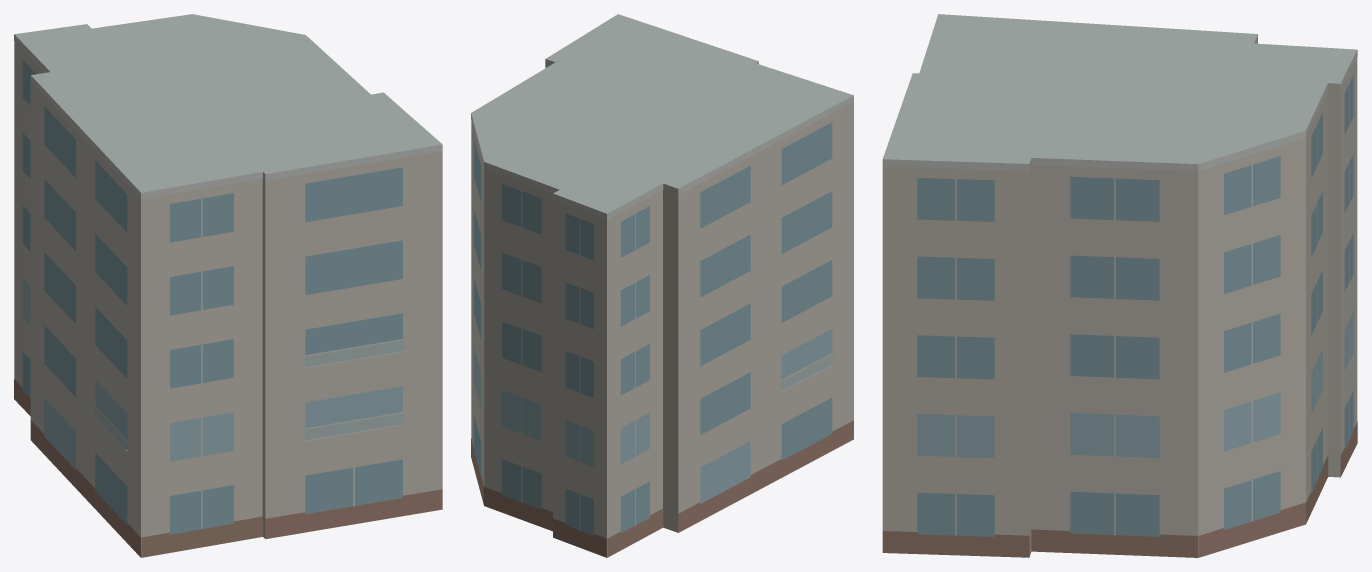
File: survey-upis-32920499.glb
3 renders of one model, left to right at view 1: azimuth 30°, elevation 25°; view 2: azimuth 150°, elevation 25°; view 3: azimuth 270°, elevation 25°, orthographic. The views are drawn at different scales.
Visible parts, largest first — view 1: survey-upis-32920499.tmp; view 2: survey-upis-32920499.tmp; view 3: survey-upis-32920499.tmp.
Boxes of the visible parts, x1,y1,x2,y2 form: survey-upis-32920499.tmp: (14,14,442,557); survey-upis-32920499.tmp: (471,14,853,557); survey-upis-32920499.tmp: (882,14,1357,557).
Size of the model in its own units: 10.89 by 13.3 by 14.55.
